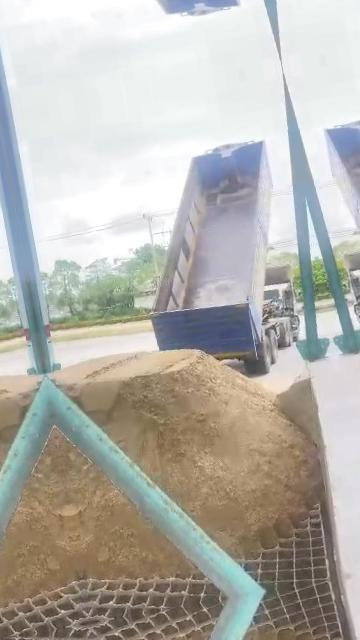sand: (55, 350, 321, 556), (56, 431, 189, 578)
